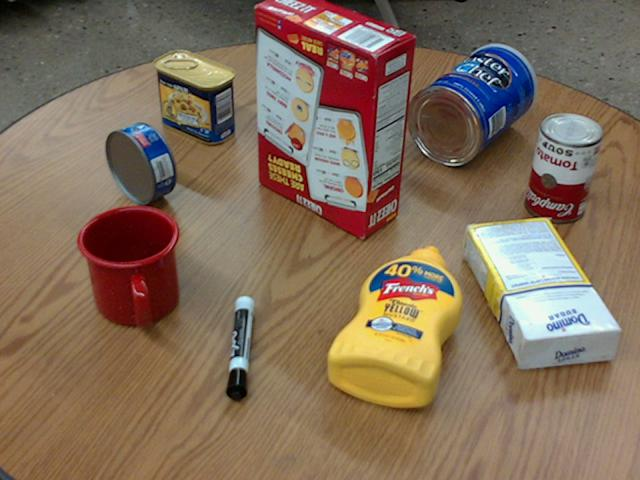cracker_box: (254, 0, 414, 237)
gelatin_box: (289, 61, 373, 117)
large_marker: (224, 295, 252, 400)
master_chef_can: (406, 43, 534, 164)
mug: (76, 206, 179, 327)
mustard_bottle: (326, 245, 461, 408)
potted_meat_can: (151, 51, 234, 143)
sugar_box: (461, 219, 621, 367)
tomato_soup_can: (523, 111, 600, 220)
tuna_fish_can: (106, 123, 175, 204)
